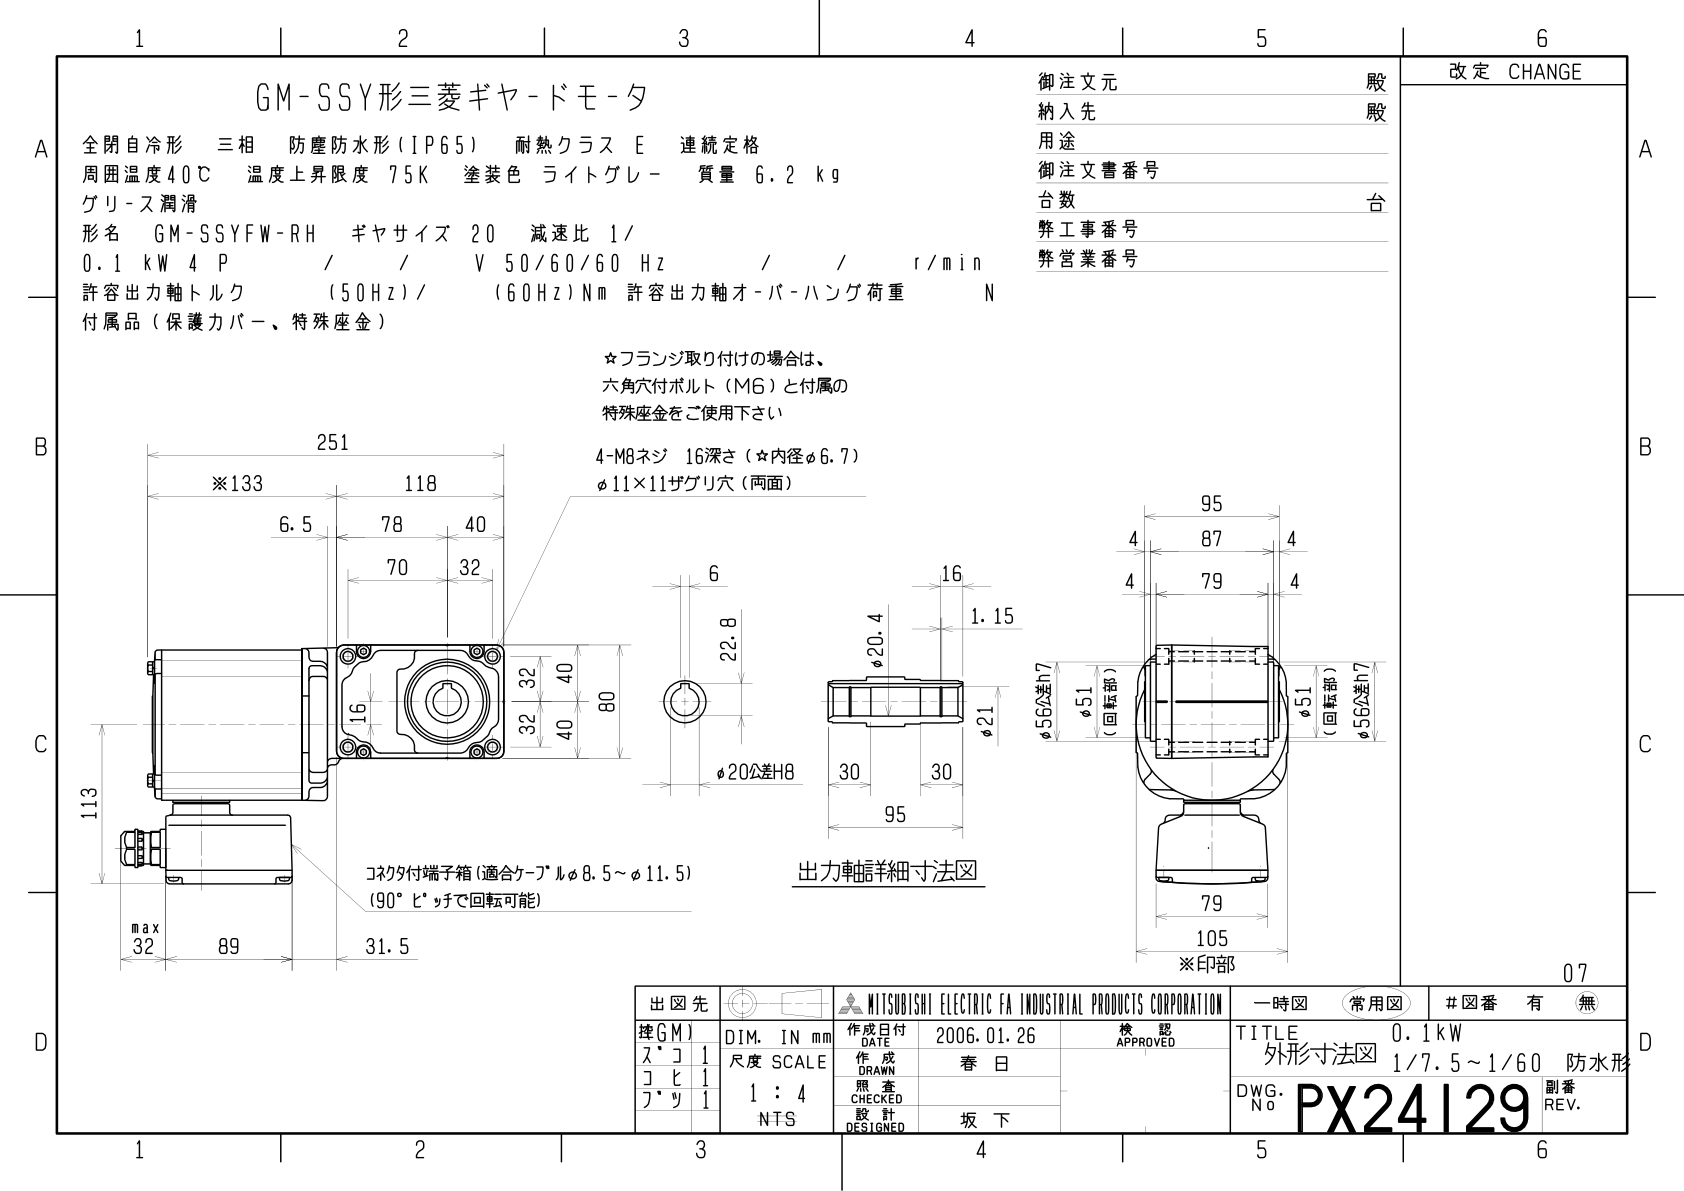GM_SSY_IP65_三相: (71, 339, 1381, 978)
